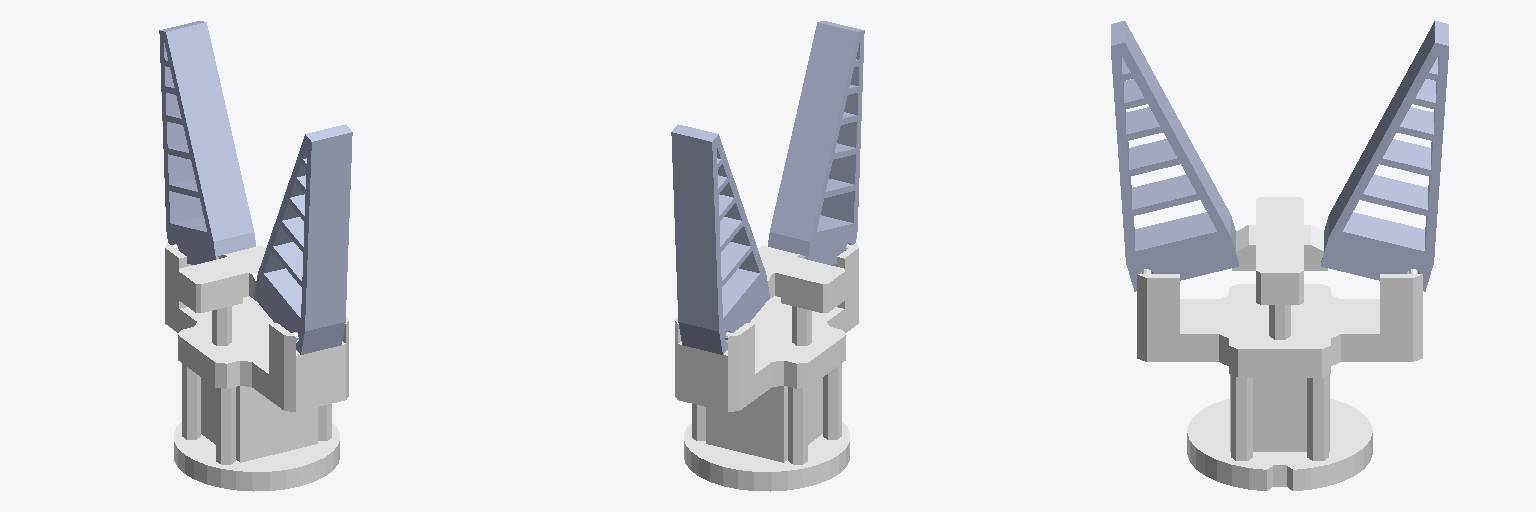
The robot description file, URDF, robot "finray2f":
<?xml version="1.0" encoding="utf-8"?>
<!-- This URDF was automatically created by SolidWorks to URDF Exporter! Originally created by [author] ([email redacted]) 
     Commit Version: 1.6.0-4-g7f85cfe  Build Version: 1.6.7995.38578
     For more information, please see http://wiki.ros.org/sw_urdf_exporter -->
<robot
  name="finray2f">
  <link
    name="base_link">
    <inertial>
      <origin
        xyz="-6.4829E-05 5.137E-18 -0.058689"
        rpy="0 0 0" />
      <mass
        value="0.23634" />
      <inertia
        ixx="0.00031697"
        ixy="-1.1862E-20"
        ixz="-5.7168E-07"
        iyy="0.00025035"
        iyz="-1.0778E-20"
        izz="0.00019351" />
    </inertial>
    <visual>
      <origin
        xyz="0 0 0"
        rpy="0 0 0" />
      <geometry>
        <mesh
          filename="../meshes/base_link.STL" />
      </geometry>
      <material
        name="">
        <color
          rgba="1 1 1 1" />
      </material>
    </visual>
    <collision>
      <origin
        xyz="0 0 0"
        rpy="0 0 0" />
      <geometry>
        <mesh
          filename="../meshes/base_link.STL" />
      </geometry>
    </collision>
  </link>
  <link
    name="finger_left">
    <inertial>
      <origin
        xyz="0.016251 -0.033233 -1.6914E-17"
        rpy="0 0 0" />
      <mass
        value="0.039598" />
      <inertia
        ixx="4.5174E-05"
        ixy="-3.3076E-07"
        ixz="5.4584E-22"
        iyy="7.2061E-06"
        iyz="1.7863E-20"
        izz="4.9186E-05" />
    </inertial>
    <visual>
      <origin
        xyz="0 0 0"
        rpy="0 0 0" />
      <geometry>
        <mesh
          filename="../meshes/finger_left.STL" />
      </geometry>
      <material
        name="">
        <color
          rgba="0.79216 0.81961 0.93333 1" />
      </material>
    </visual>
    <collision>
      <origin
        xyz="0 0 0"
        rpy="0 0 0" />
      <geometry>
        <mesh
          filename="../meshes/finger_left.STL" />
      </geometry>
    </collision>
  </link>
  <joint
    name="finger_left_joint"
    type="revolute">
    <origin
      xyz="-0.0005 -0.056 -0.014"
      rpy="-1.5708 -0.2618 1.5708" />
    <parent
      link="base_link" />
    <child
      link="finger_left" />
    <axis
      xyz="0 0 1" />
    <limit
      lower="0"
      upper="0.785"
      effort="0.785"
      velocity="0.785" />
  </joint>
  <link
    name="finger_right">
    <inertial>
      <origin
        xyz="-0.016251 0.033233 -5.5294E-18"
        rpy="0 0 0" />
      <mass
        value="0.039598" />
      <inertia
        ixx="4.5174E-05"
        ixy="-3.3076E-07"
        ixz="-3.7581E-22"
        iyy="7.2061E-06"
        iyz="-1.642E-20"
        izz="4.9186E-05" />
    </inertial>
    <visual>
      <origin
        xyz="0 0 0"
        rpy="0 0 0" />
      <geometry>
        <mesh
          filename="../meshes/finger_right.STL" />
      </geometry>
      <material
        name="">
        <color
          rgba="0.79216 0.81961 0.93333 1" />
      </material>
    </visual>
    <collision>
      <origin
        xyz="0 0 0"
        rpy="0 0 0" />
      <geometry>
        <mesh
          filename="../meshes/finger_right.STL" />
      </geometry>
    </collision>
  </link>
  <joint
    name="finger_right_joint"
    type="revolute">
    <origin
      xyz="-0.0005 0.056 -0.014"
      rpy="1.5708 0.2618 1.5708" />
    <parent
      link="base_link" />
    <child
      link="finger_right" />
    <axis
      xyz="0 0 1" />
    <limit
      lower="0"
      upper="0.785"
      effort="0.785"
      velocity="0.785" />
  </joint>
</robot>

--- Facts derived from the render (not from the file) ---
The picture shows the robot from 3 angles, left to right: view 1: azimuth 30°, elevation 25°; view 2: azimuth 150°, elevation 25°; view 3: azimuth 270°, elevation 25°; orthographic projection.
Model finray2f with 3 links and 2 joints (2 revolute), rooted at base_link, posed every joint at zero.
Links seen in each view (by area): view 1: base_link, finger_right, finger_left; view 2: base_link, finger_left, finger_right; view 3: base_link, finger_left, finger_right.
Link boxes in pixels (x1,y1,x2,y2): base_link: [165, 243, 348, 491]; finger_right: [159, 21, 255, 264]; finger_left: [254, 124, 352, 354]; base_link: [675, 243, 858, 491]; finger_left: [768, 21, 864, 264]; finger_right: [671, 124, 769, 354]; base_link: [1137, 197, 1422, 490]; finger_left: [1111, 21, 1239, 291]; finger_right: [1320, 21, 1448, 291].
Bounding box of the posed robot: 0.0776 × 0.1424 × 0.195 m (x, y, z).
3 mesh visuals loaded from 3 distinct referenced files (3 binary STL).
